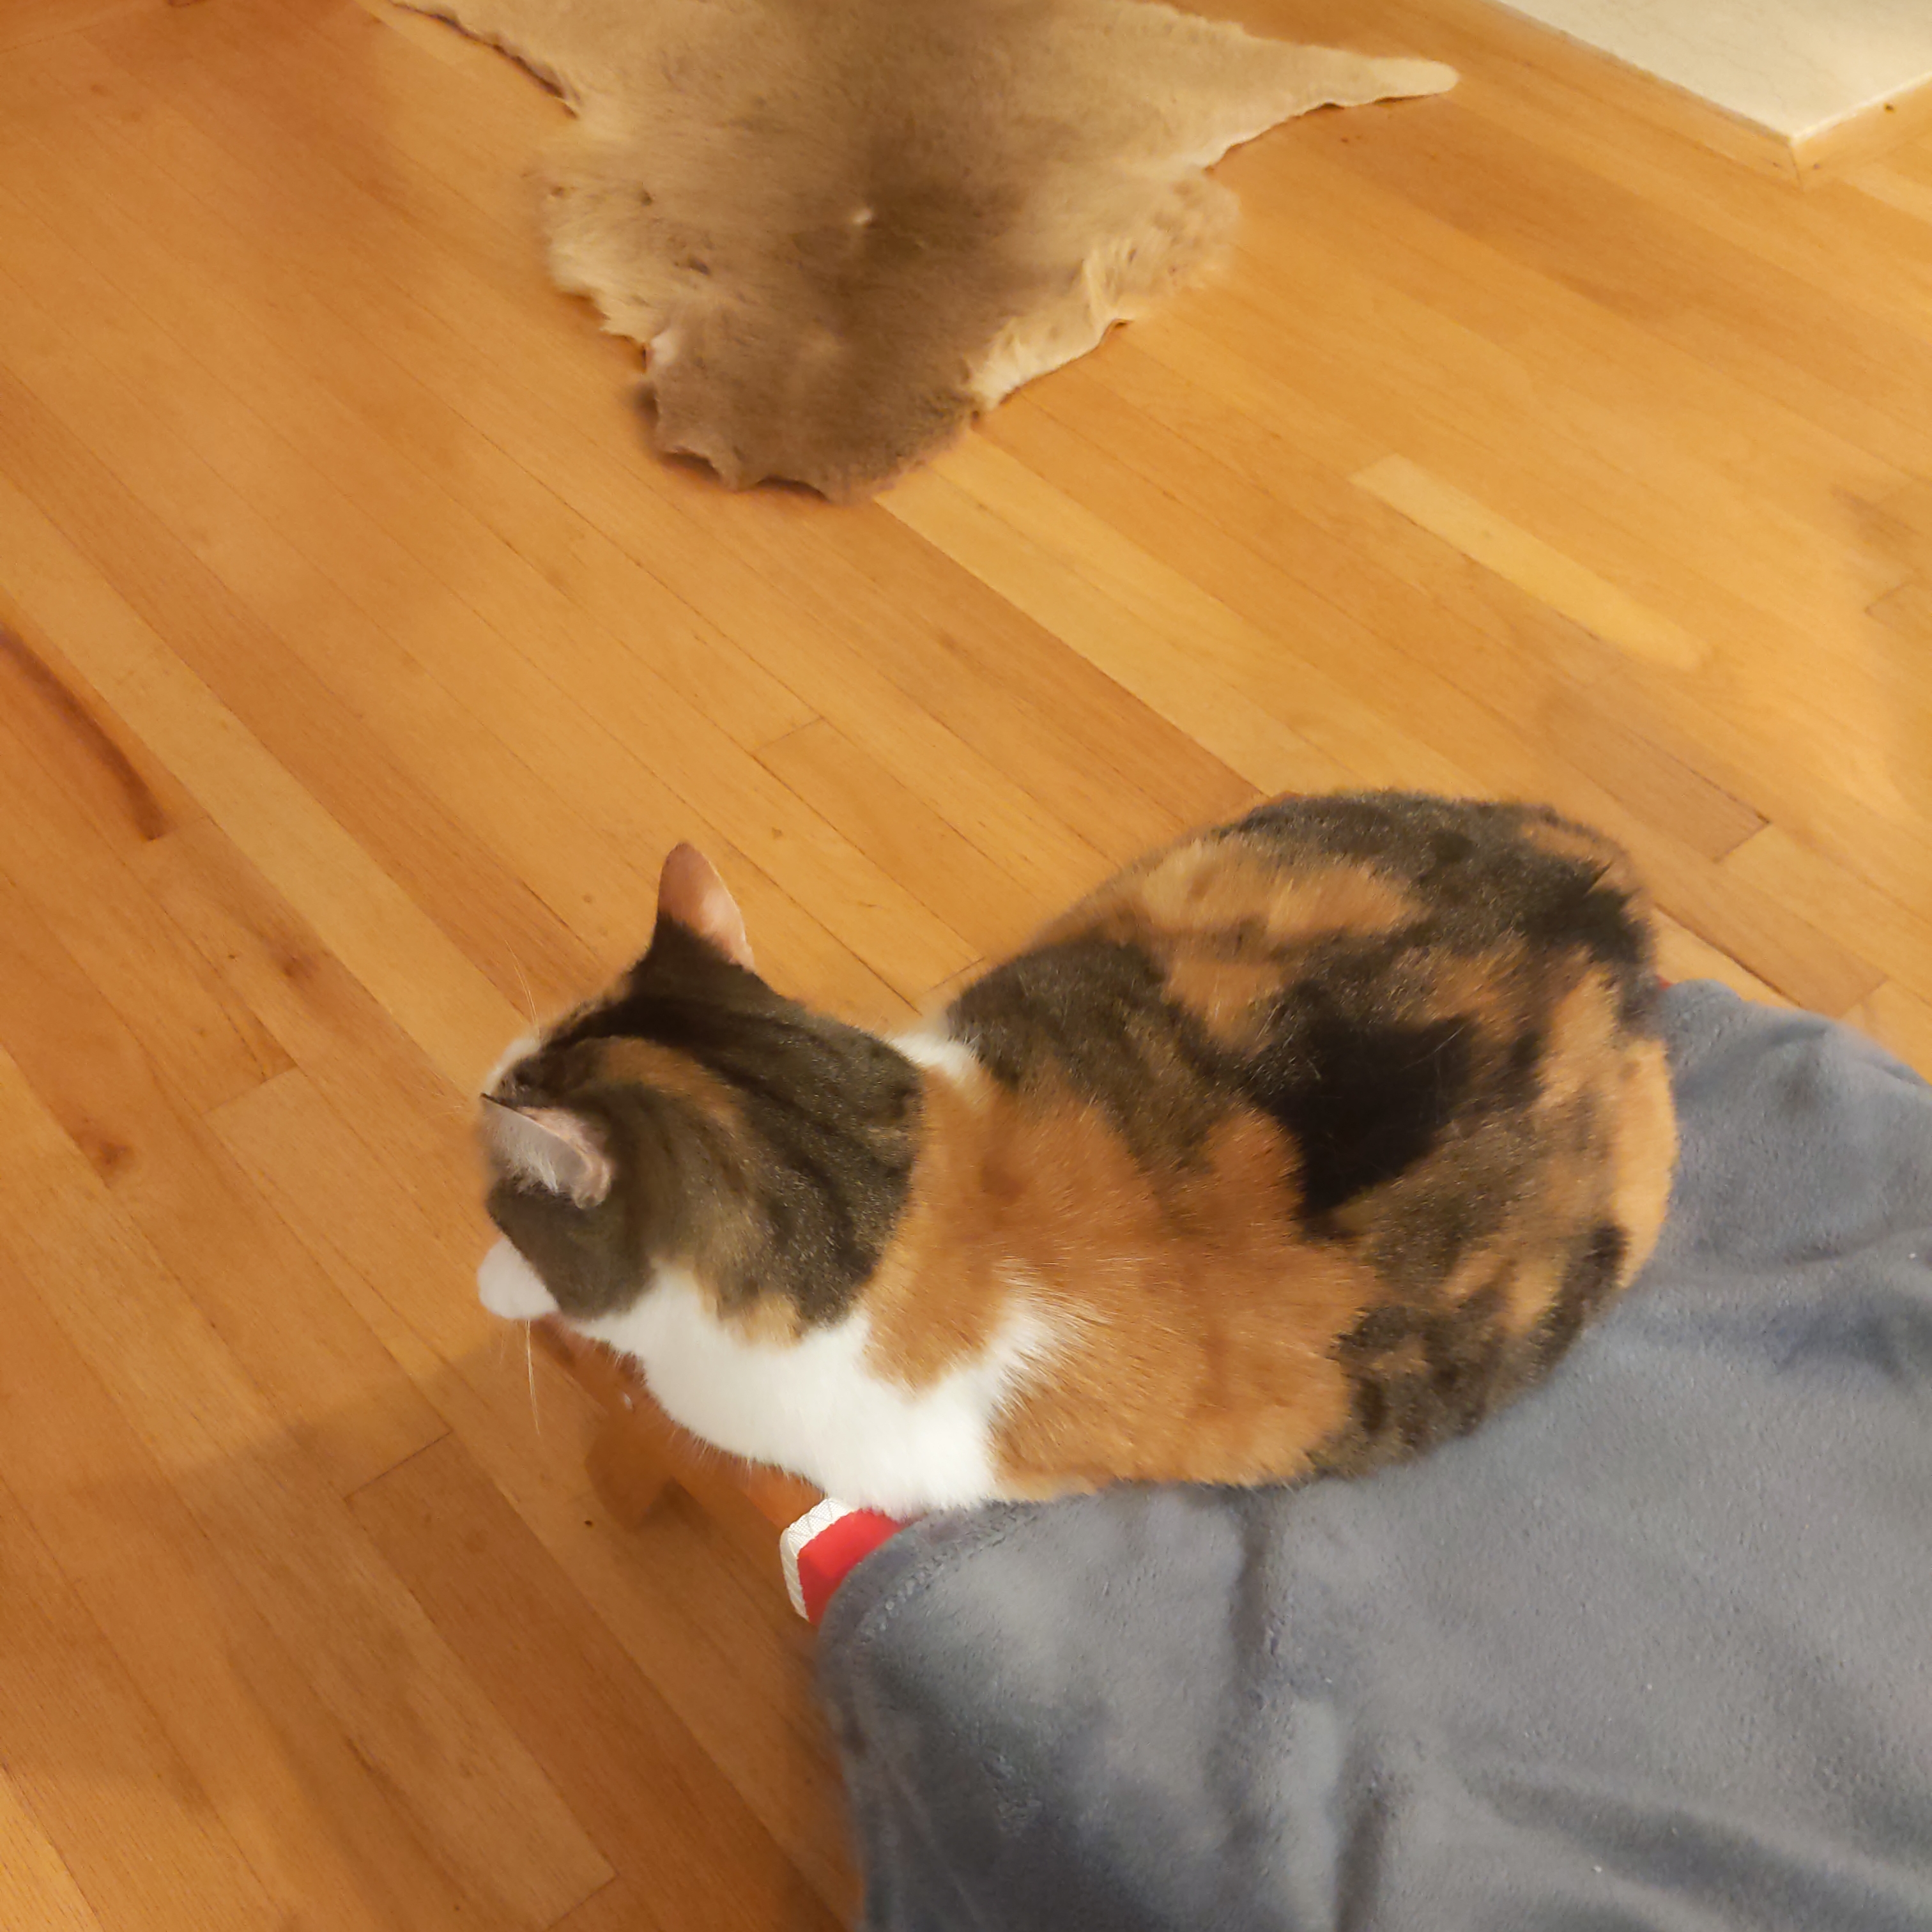Calico: (472, 789, 1679, 1516)
